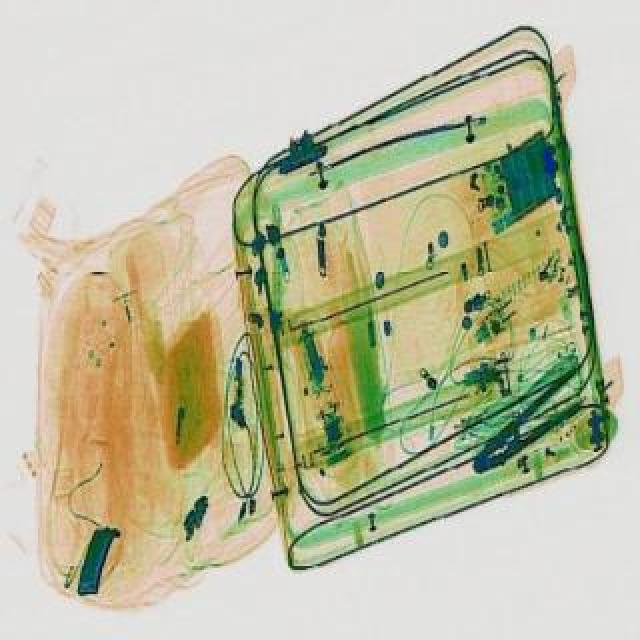wrench: (458, 360, 602, 480)
